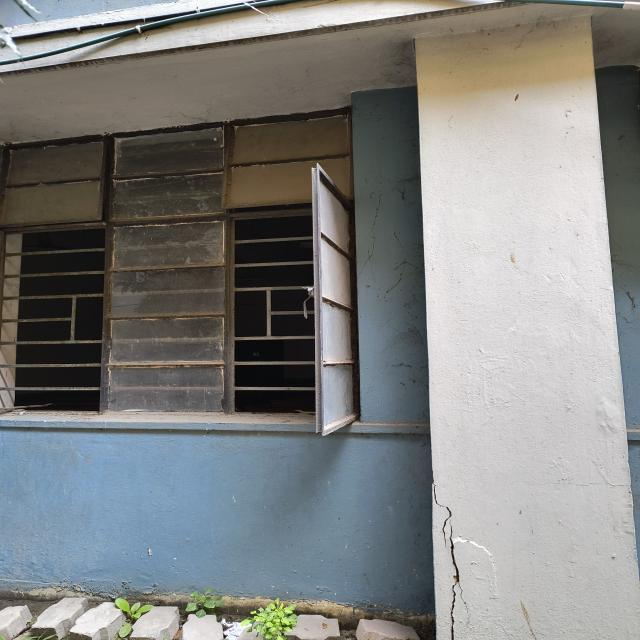crack: (448, 520, 469, 640), (432, 477, 453, 551)
